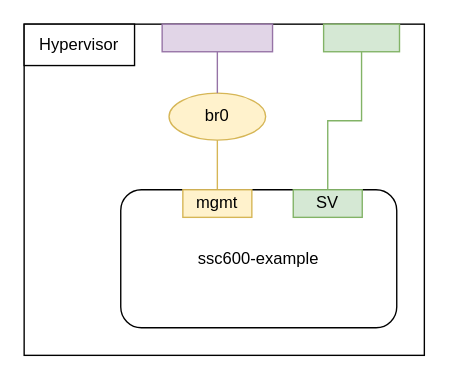
This 449x380 diagram has some shape labels left out. Each missing label, with the centre of its shape:
enp0s20f0u7: pixel 217 37
enp88s0: pixel 361 37
